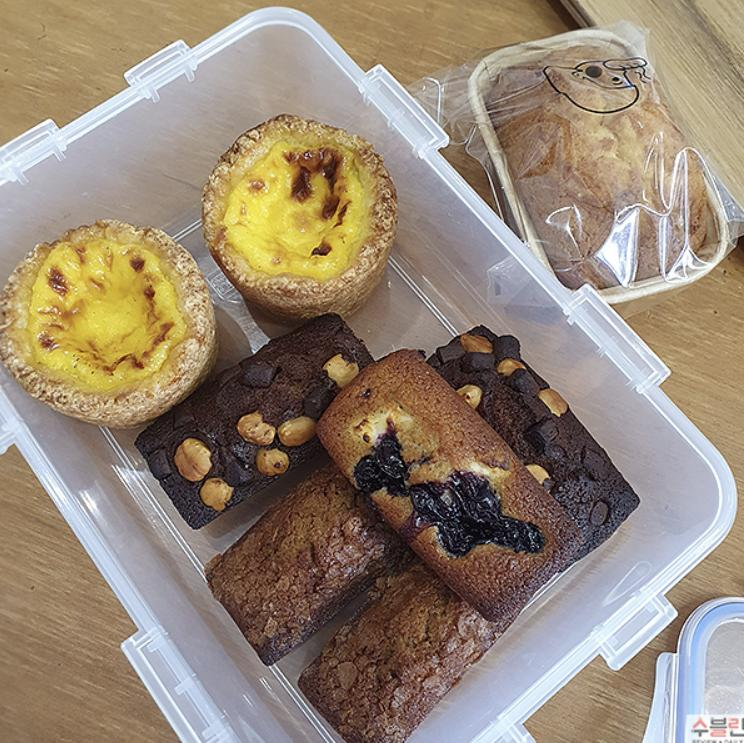Lunch Box: (0, 8, 735, 742), (415, 22, 740, 306)
